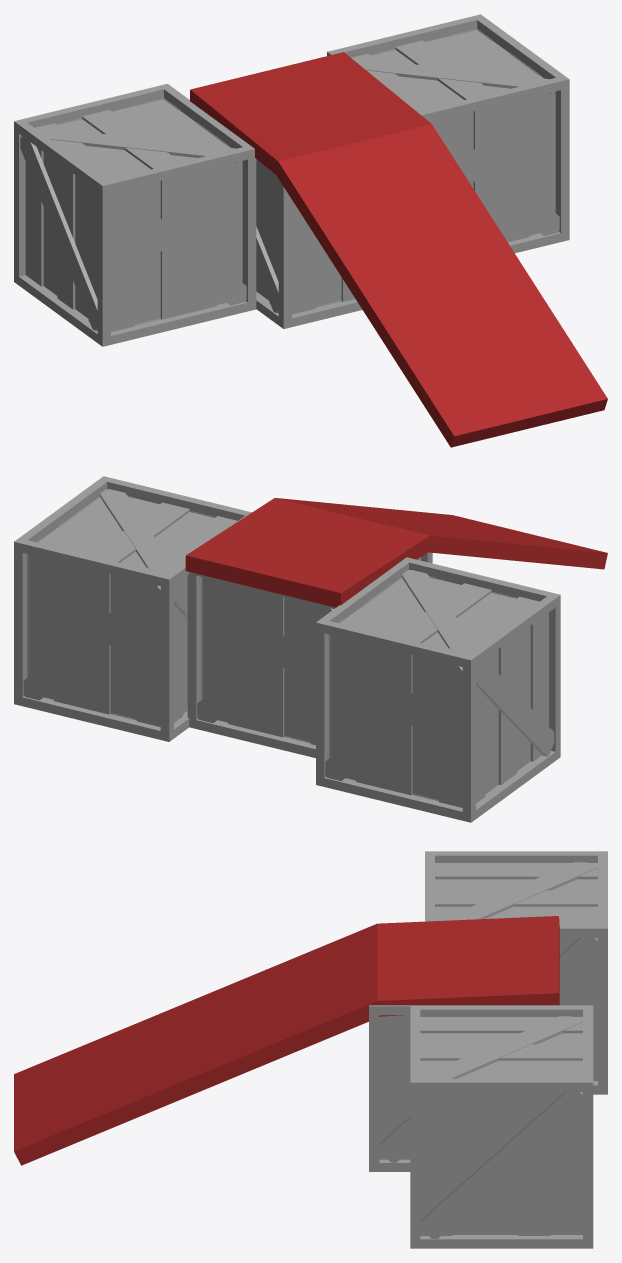
File: Blockage.fbx
3 renders of one model, top to bottom at view 1: azimuth 30°, elevation 25°; view 2: azimuth 150°, elevation 25°; view 3: azimuth 270°, elevation 25°, orthographic. The views are drawn at different scales.
Visible parts, largest first — view 1: pCube173; view 2: pCube173; view 3: pCube173.
Boxes of the visible parts, x1,y1,x2,y2 form: pCube173: (14,14,607,447); pCube173: (14,476,607,822); pCube173: (14,851,607,1248).
Size of the model in its own units: 299 by 107 by 325.
